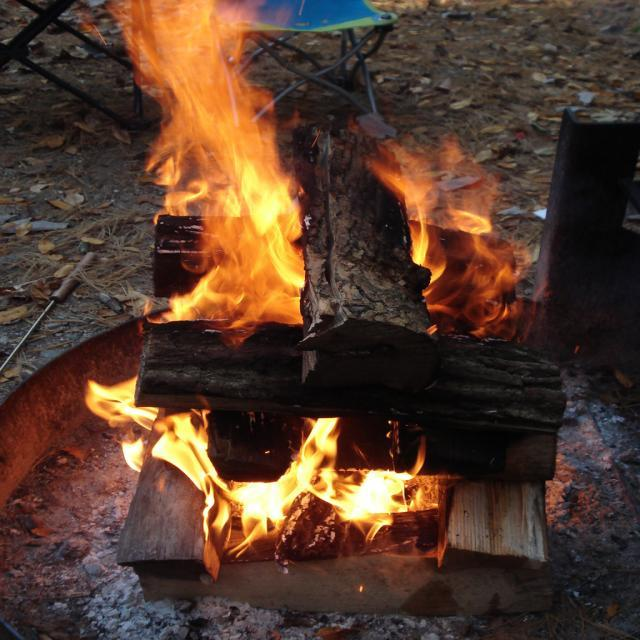Fire: (83, 0, 496, 546)
